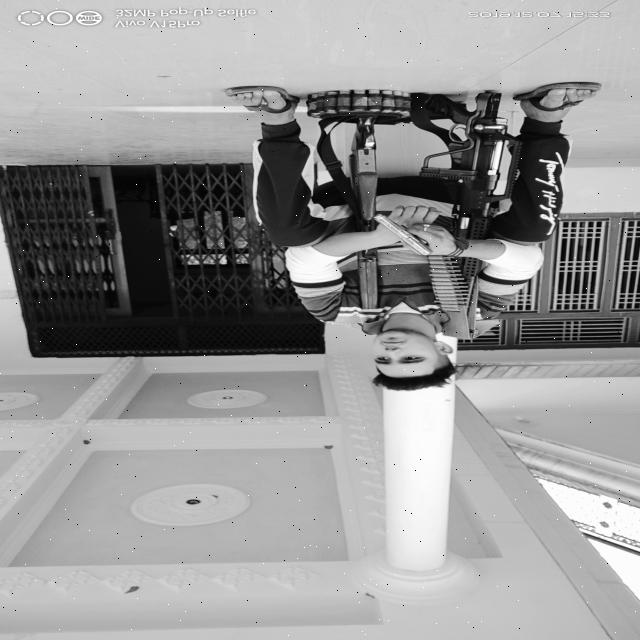gun: (366, 210, 453, 258)
